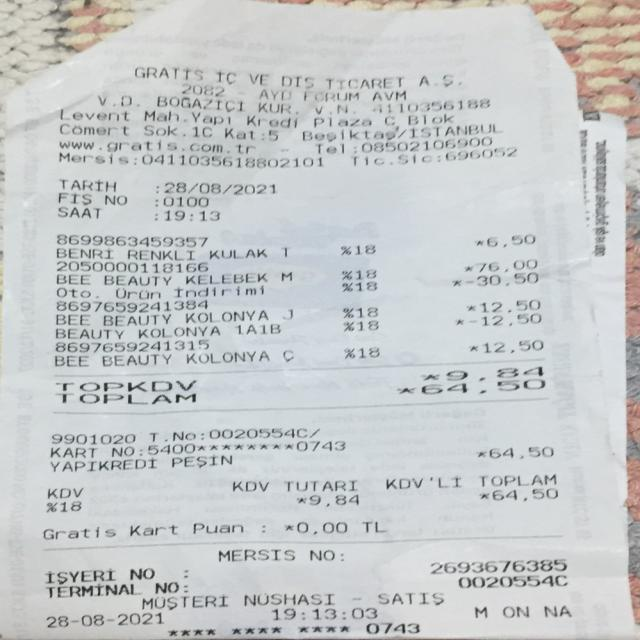text: (58, 136, 254, 156), (140, 153, 326, 169), (156, 178, 274, 198), (56, 232, 206, 247), (44, 610, 165, 628), (54, 298, 206, 312), (56, 259, 206, 273), (54, 339, 208, 352), (61, 392, 195, 406), (158, 94, 246, 114), (55, 379, 194, 391), (429, 560, 566, 572), (371, 99, 491, 111), (177, 269, 265, 285), (134, 594, 227, 608), (55, 107, 130, 124), (242, 592, 332, 606), (134, 63, 200, 82), (126, 245, 202, 261), (357, 139, 492, 148), (327, 74, 407, 89), (299, 127, 384, 141), (48, 458, 156, 469), (270, 607, 377, 618), (218, 547, 294, 562), (415, 382, 540, 391), (444, 367, 546, 378), (57, 150, 126, 166), (182, 309, 266, 322), (61, 122, 133, 137), (457, 576, 565, 586), (352, 153, 429, 167), (102, 271, 172, 286), (41, 525, 115, 539), (58, 175, 112, 194), (375, 590, 443, 605), (246, 112, 302, 130), (208, 244, 269, 260), (207, 428, 304, 438), (308, 114, 372, 129), (407, 126, 500, 136), (184, 350, 267, 361), (384, 475, 460, 487), (44, 570, 119, 582), (55, 246, 111, 262), (46, 584, 134, 594), (283, 478, 355, 490), (49, 432, 134, 442), (101, 312, 171, 324), (136, 325, 220, 335), (305, 492, 361, 507), (466, 314, 542, 325), (168, 454, 232, 467), (480, 474, 555, 485), (303, 86, 357, 101), (486, 446, 552, 458), (100, 353, 171, 364), (402, 111, 454, 126), (296, 519, 346, 534), (54, 327, 122, 338), (489, 488, 557, 499), (191, 522, 243, 536), (364, 621, 418, 634), (128, 523, 178, 537), (145, 428, 193, 442), (482, 341, 543, 352), (58, 203, 97, 220), (480, 299, 540, 310), (294, 438, 344, 451), (440, 150, 518, 158), (163, 194, 206, 208), (47, 445, 97, 457), (142, 108, 175, 126), (148, 442, 192, 455), (183, 83, 223, 97), (476, 260, 538, 269), (234, 322, 280, 334), (54, 272, 88, 288), (258, 99, 288, 117), (484, 235, 537, 245), (282, 73, 313, 90), (310, 102, 350, 115), (92, 94, 134, 106), (416, 73, 454, 86), (230, 480, 268, 492), (372, 88, 404, 102), (55, 287, 89, 300), (52, 354, 88, 366), (58, 191, 91, 204), (146, 123, 174, 138), (54, 314, 89, 326), (44, 487, 85, 497), (213, 67, 234, 85), (103, 444, 133, 456), (314, 142, 346, 153), (543, 604, 570, 617), (500, 605, 527, 617), (361, 519, 384, 533), (309, 548, 332, 562), (354, 242, 374, 258), (131, 567, 153, 581), (152, 580, 175, 593), (248, 70, 265, 87), (164, 207, 182, 223), (199, 208, 217, 224), (104, 192, 125, 205), (354, 280, 376, 292), (356, 346, 378, 357), (420, 370, 440, 382), (58, 500, 81, 510), (471, 605, 487, 619), (354, 306, 376, 316), (356, 320, 378, 330), (279, 348, 294, 362), (397, 383, 412, 396), (279, 268, 291, 284), (338, 242, 349, 259), (464, 300, 476, 314), (467, 341, 478, 356), (432, 150, 443, 163), (461, 262, 472, 275), (341, 321, 354, 332), (44, 501, 57, 512), (476, 446, 486, 460), (349, 140, 358, 155), (283, 520, 292, 535), (340, 281, 352, 292), (341, 306, 352, 317), (343, 347, 354, 358), (352, 591, 360, 606), (450, 275, 459, 288), (454, 315, 463, 328), (473, 236, 482, 248), (307, 424, 316, 436), (257, 126, 264, 141), (199, 427, 207, 440), (138, 443, 146, 456), (477, 488, 485, 501), (179, 568, 188, 578), (179, 124, 185, 138), (130, 154, 137, 166), (288, 306, 293, 321), (260, 521, 265, 536), (282, 243, 286, 260), (154, 193, 159, 206), (190, 208, 192, 222), (95, 287, 97, 300)
